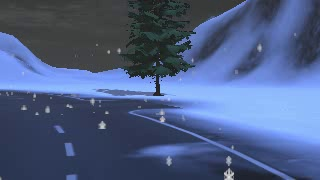Lane: (0, 90, 289, 179)
